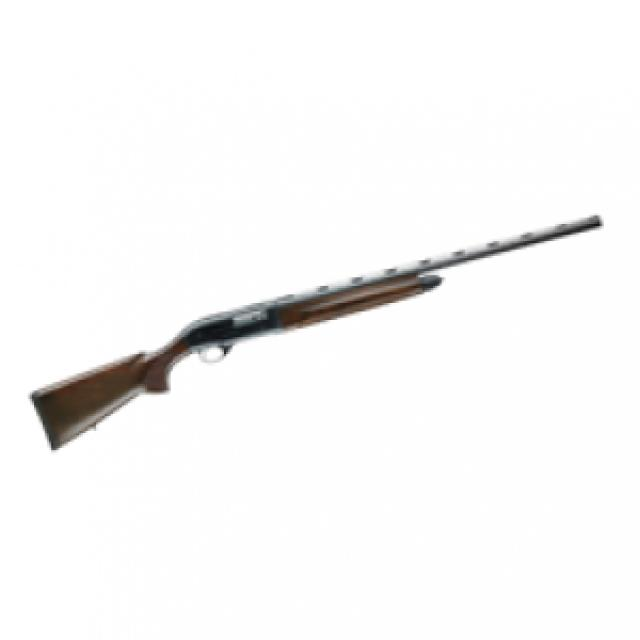rifle: (27, 205, 603, 456)
